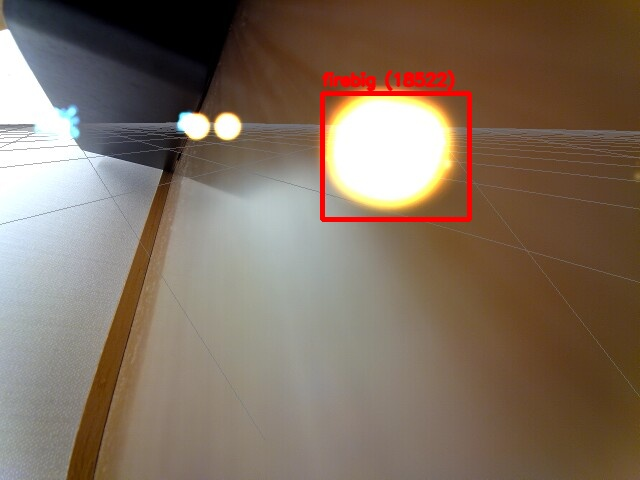firebig: (322, 93, 469, 219)
